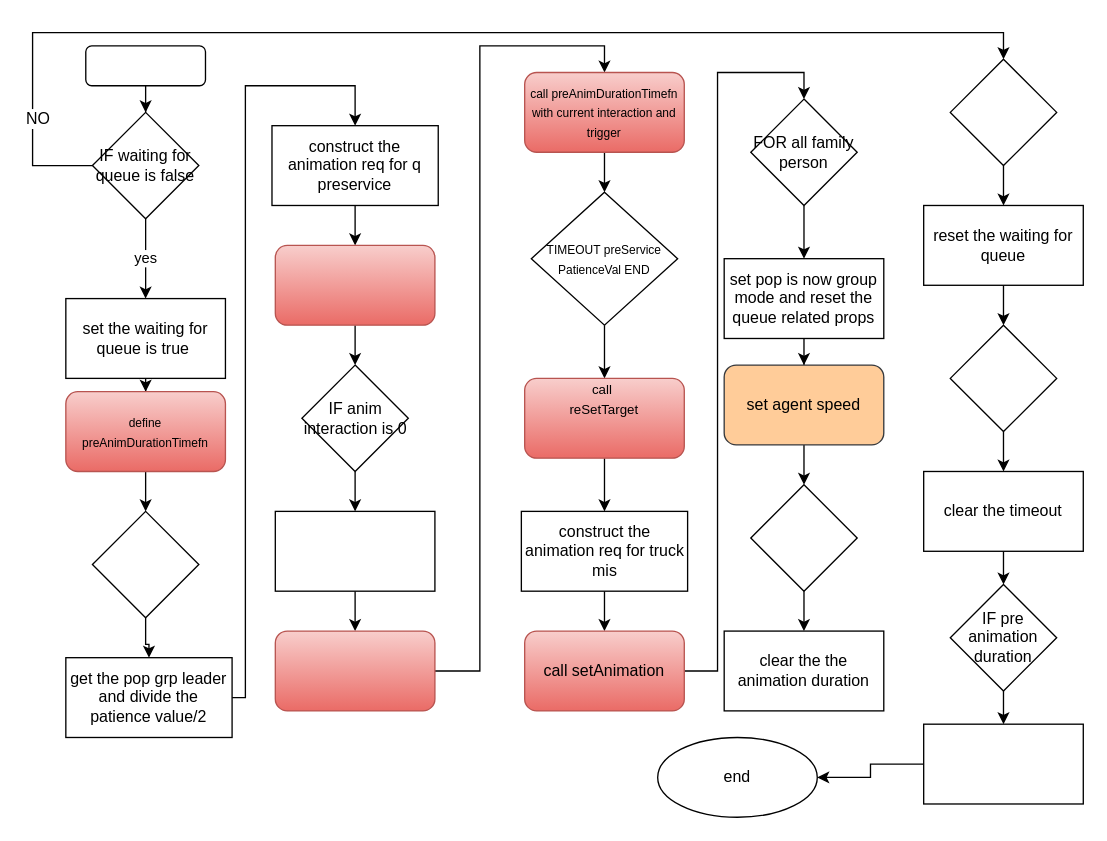
The diagram is 1107 pixels wide and 841 high, and some of its shapes have lost their labels. The box of each missing label's shape, as (x1, y1, x2, y2) in pixels:
call preAnimDurationTimefn with next interaction and trigger: (274, 630, 435, 711)
call setAnimation and slab time: (274, 244, 435, 325)
clear the pre animation duration: (922, 723, 1083, 804)
ELSE IF waiting for queue is true: (949, 58, 1057, 166)
IF pop is wating for queue duration: (749, 483, 857, 591)
IF waiting for queue timeout: (949, 324, 1057, 432)
set aim interaction as 1: (274, 510, 435, 591)
start: (84, 45, 205, 86)
TIMEOUT 2.5 sec end: (91, 510, 199, 618)
